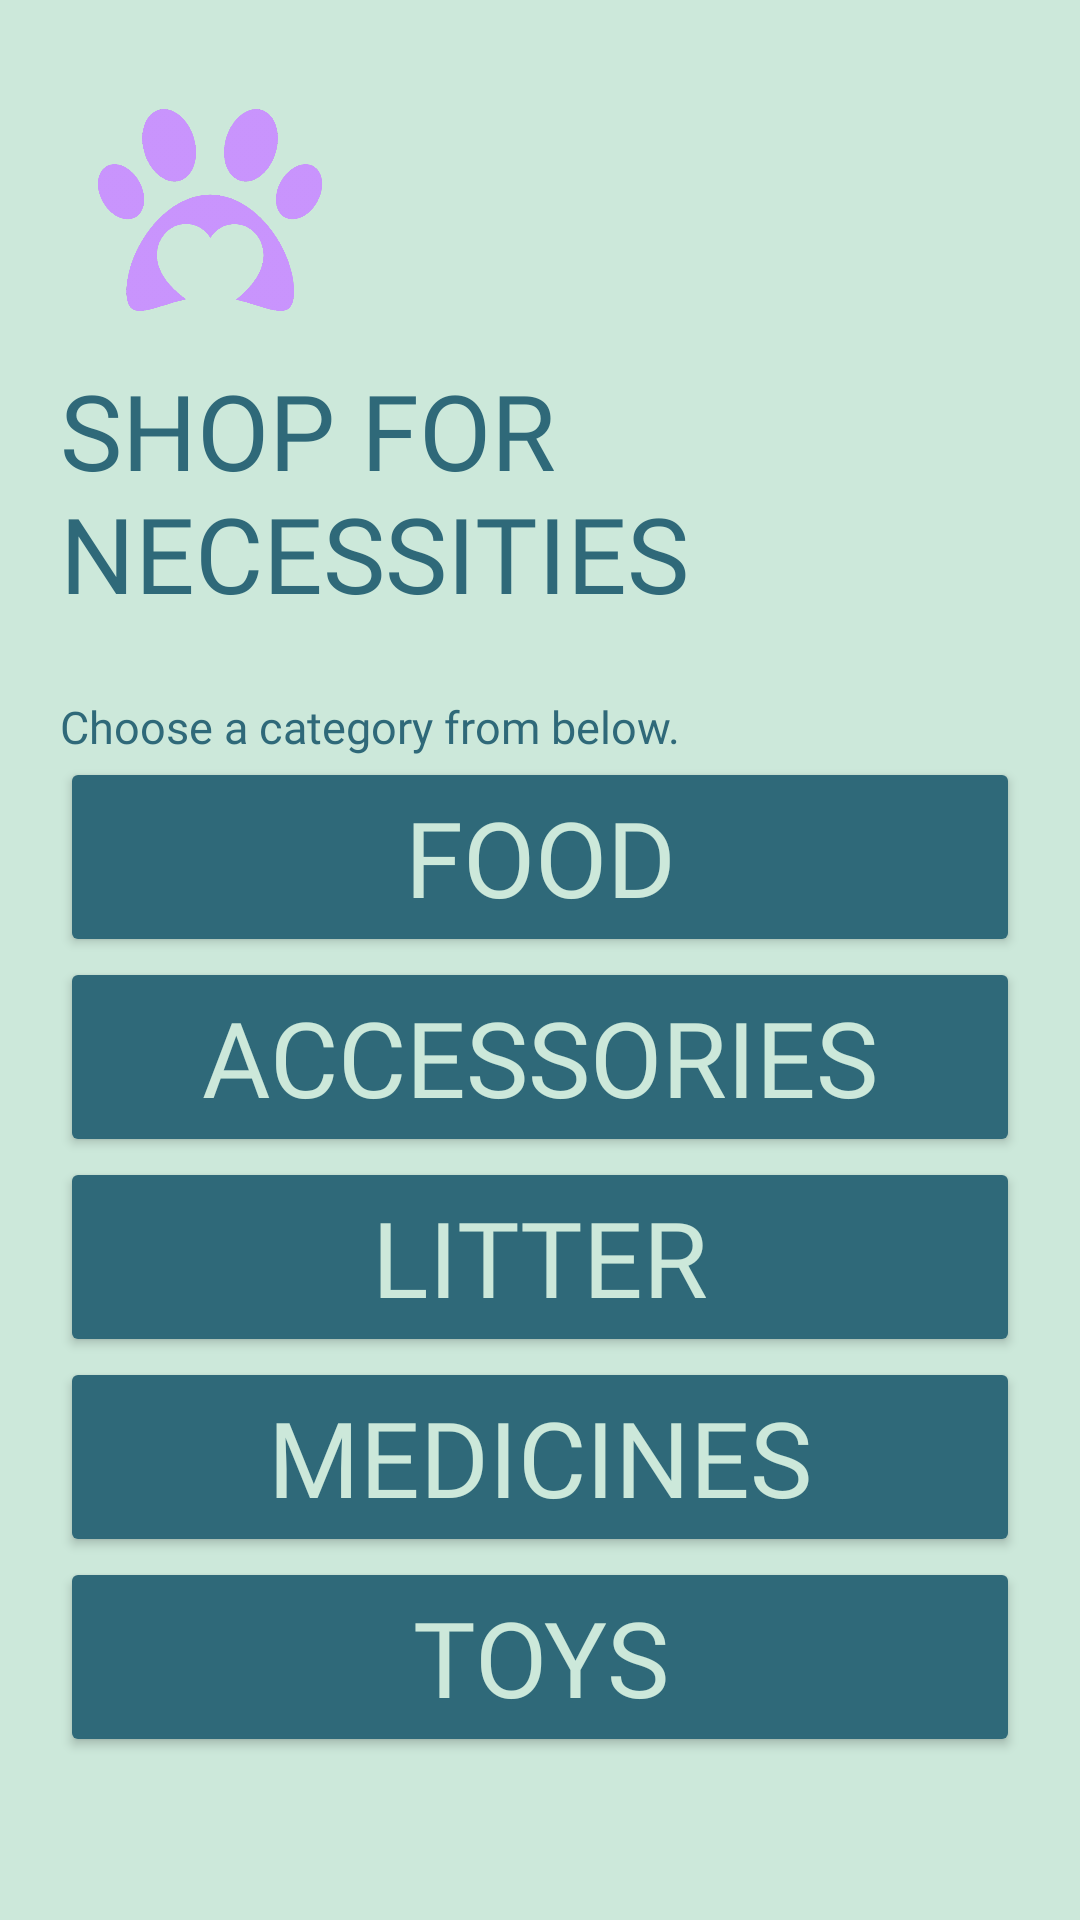

Icons on this 1080 × 1920 Android screen, each with its box as (x1, y1, x2, y2):
paw: (98, 109, 322, 311)
